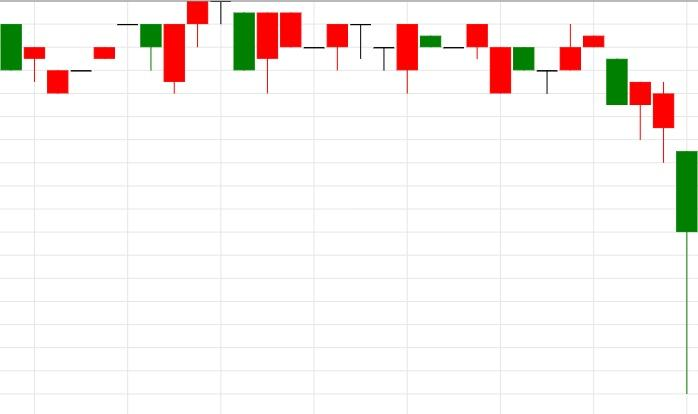hammer_rise: (582, 35, 698, 394)
morning_star_rise: (466, 24, 582, 95)
